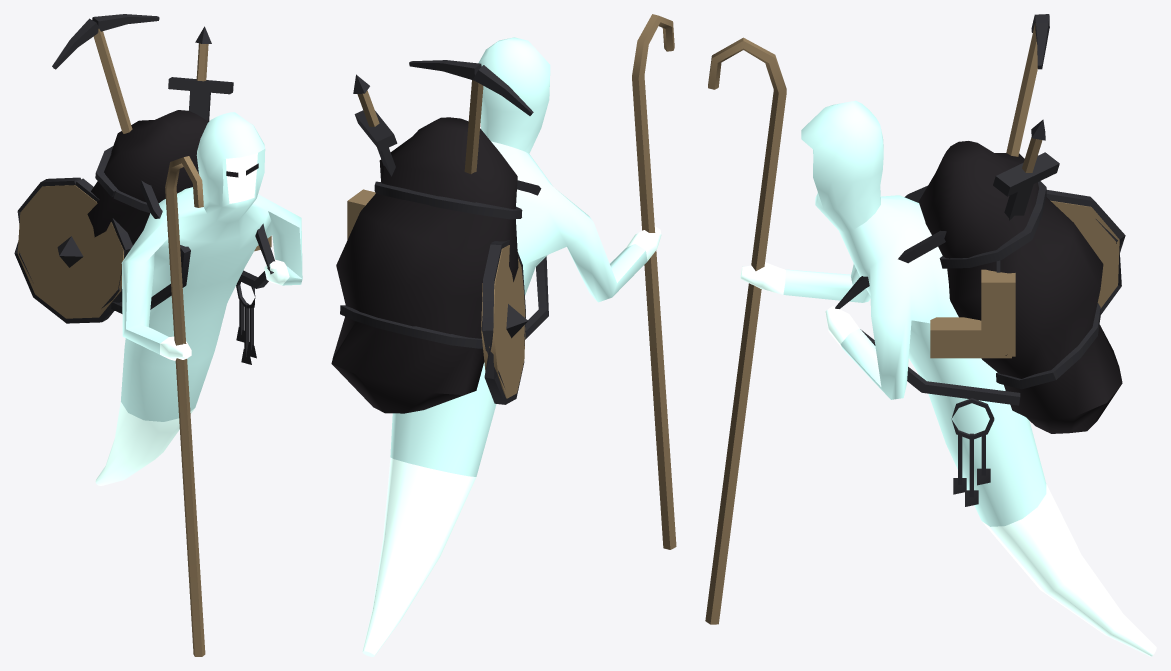
File: ShadeBurdened.fbx
3 renders of one model, left to right at view 1: azimuth 30°, elevation 25°; view 2: azimuth 150°, elevation 25°; view 3: azimuth 270°, elevation 25°, orthographic. The views are drawn at different scales.
Visible parts, largest first — view 1: ShadeBurdened; view 2: ShadeBurdened; view 3: ShadeBurdened.
Part boxes in pixels (x1,y1,x2,y2): ShadeBurdened: (14,14,302,656); ShadeBurdened: (331,14,676,656); ShadeBurdened: (705,14,1156,656).
Size of the model in its own units: 0.7669 by 2.03 by 1.32.
